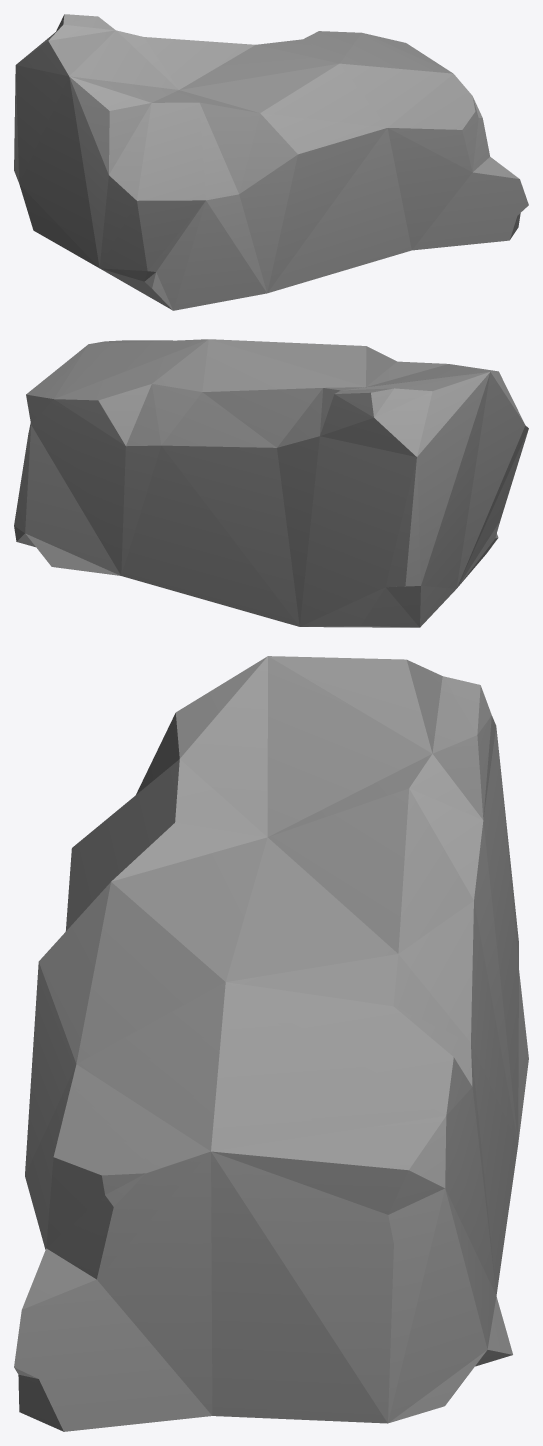
Rendered from stone small 9.fbx.
3 views of the same model, one above another, from view 1: azimuth 30°, elevation 25°; view 2: azimuth 150°, elevation 25°; view 3: azimuth 270°, elevation 25° (orthographic). The views are drawn at different scales.
Parts seen in each view (by area): view 1: stone small 9; view 2: stone small 9; view 3: stone small 9.
Part boxes in pixels (x1,y1,x2,y2): stone small 9: [14, 14, 528, 310]; stone small 9: [14, 339, 528, 627]; stone small 9: [14, 656, 528, 1431].
Size of the model in its own units: 274 by 145 by 160.
